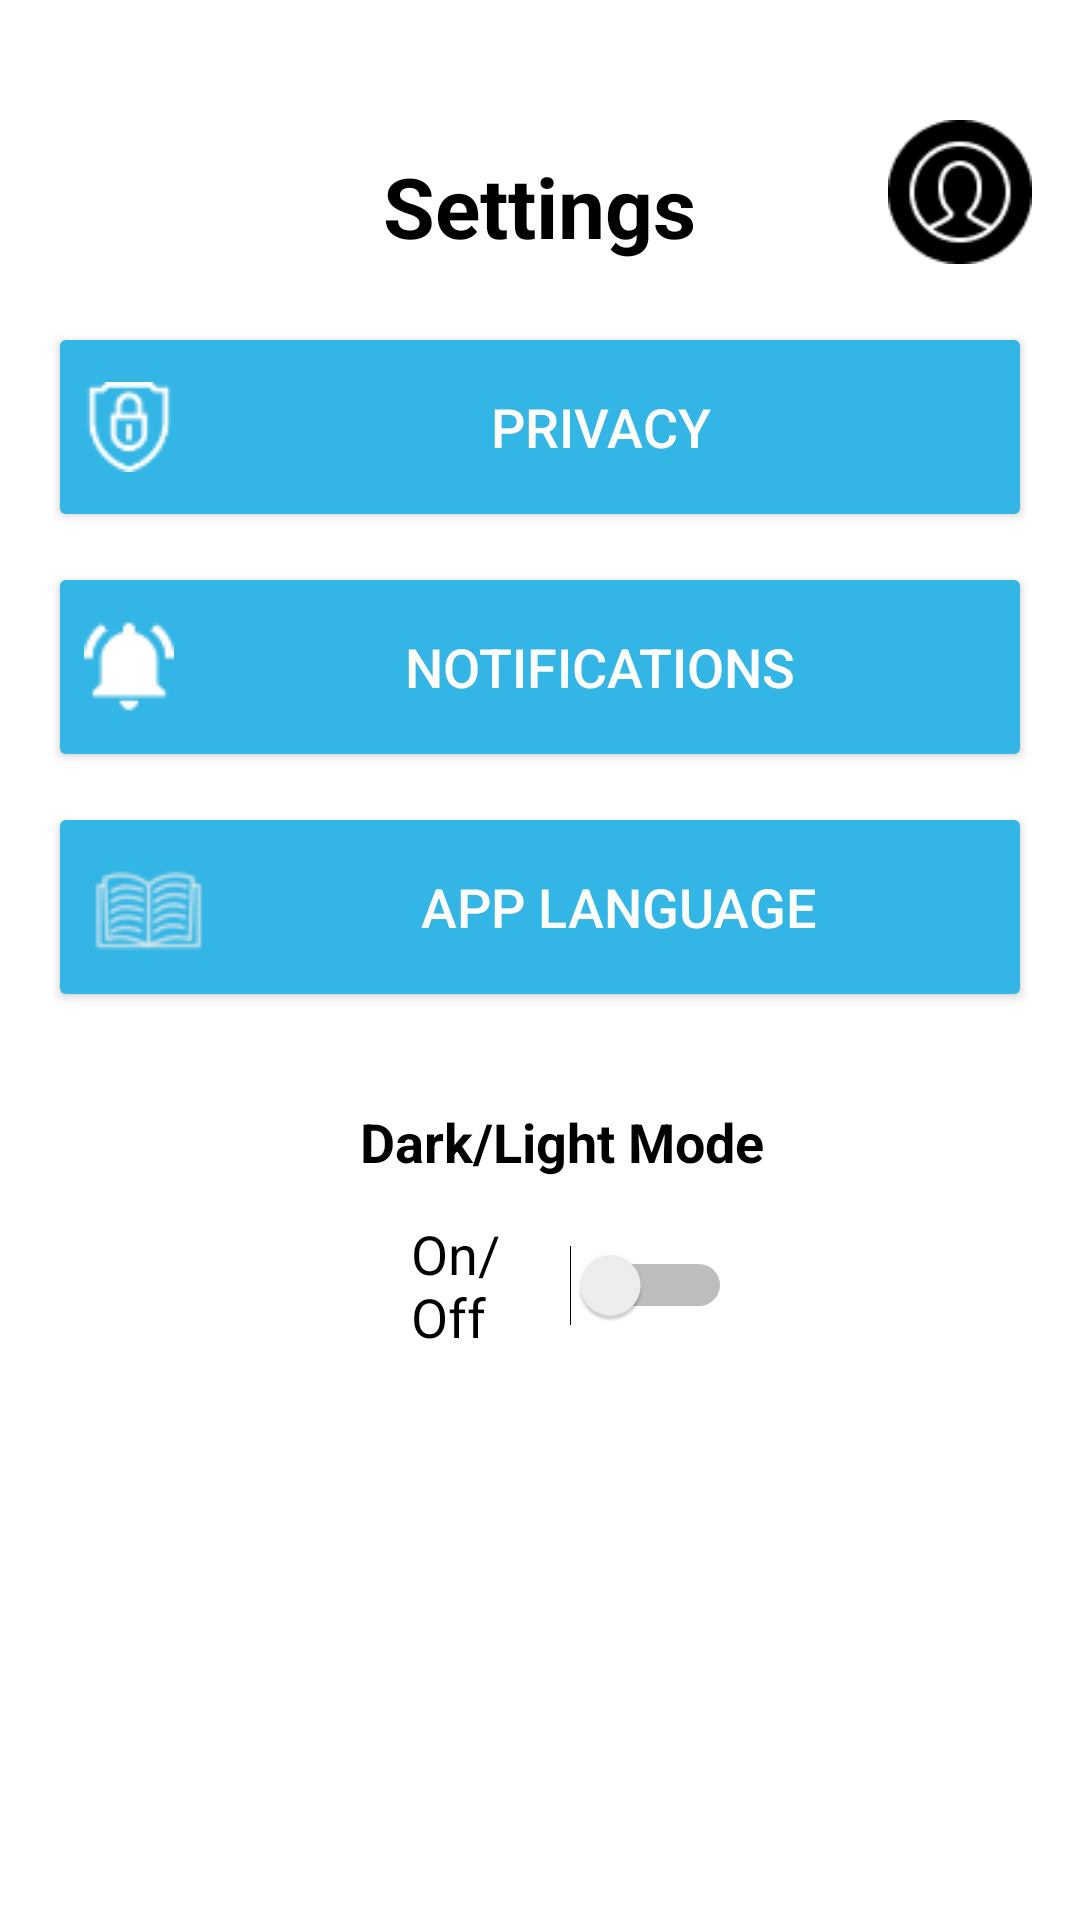

Screen size 1080px x 1920px. Icon name, then its center in pixels as (x=x, y=y):
Profile Icon: (x=960, y=192)
